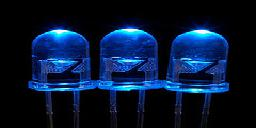LED: (29, 25, 97, 128), (163, 25, 230, 128), (100, 25, 162, 128)
